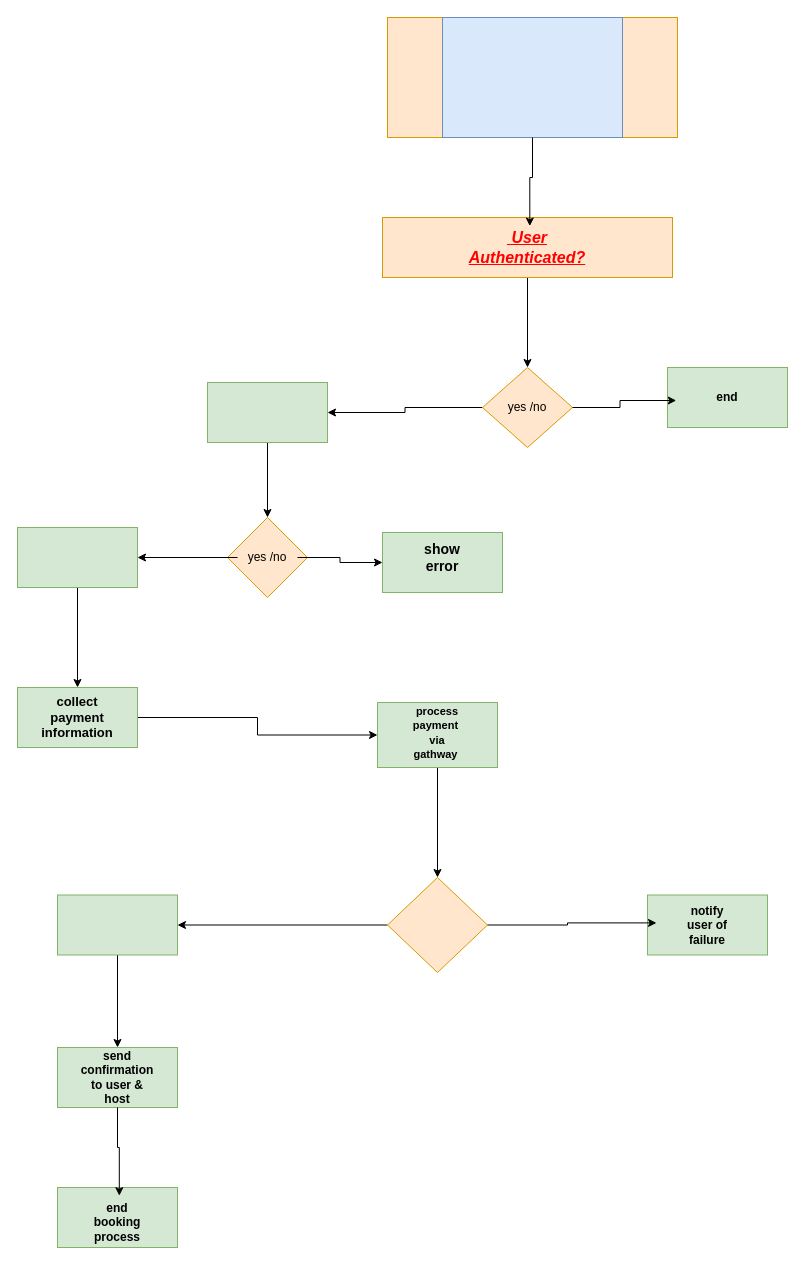
This 805x1265 diagram has some shape labels left out. The centre of each missing label's shape, as x and y in pixels:
calculate total price with fees: the point at 77,557
create booking record: the point at 117,924
get property visibility: the point at 267,412
Start Booking Process: the point at 532,77
succes /fail: the point at 437,924
